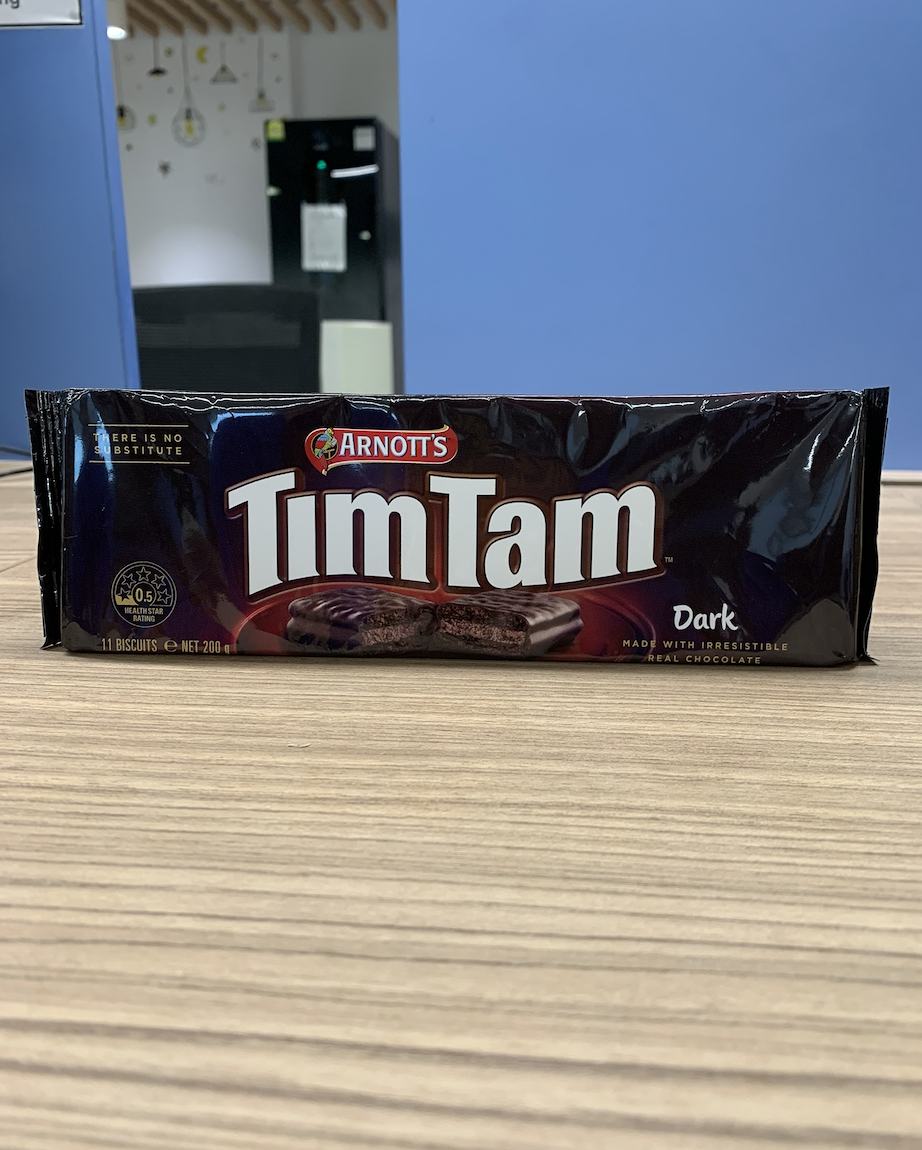cookies_200g-299g: (59, 396, 838, 658)
